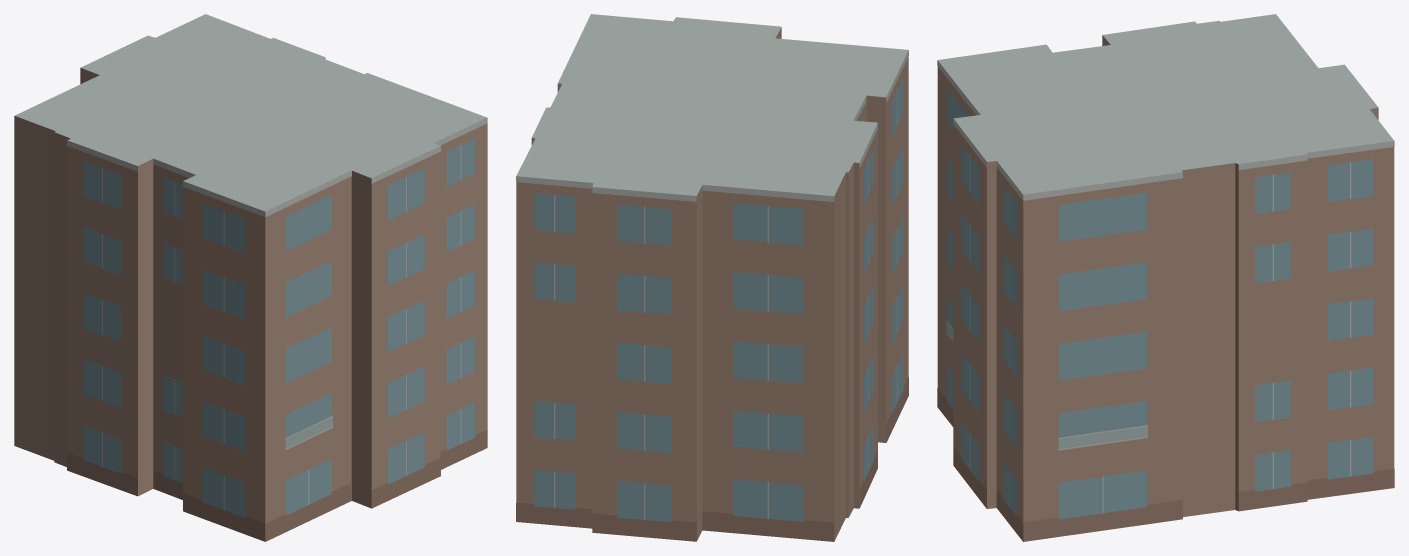
Rendered from survey-upis-32802325.glb.
3 views of the same model, side by side, from view 1: azimuth 30°, elevation 25°; view 2: azimuth 150°, elevation 25°; view 3: azimuth 270°, elevation 25° (orthographic). The views are drawn at different scales.
Visible parts, largest first — view 1: survey-upis-32802325.tmp; view 2: survey-upis-32802325.tmp; view 3: survey-upis-32802325.tmp.
Part boxes in pixels (left/top/right/bottom): survey-upis-32802325.tmp: left=14, top=14, right=487, bottom=541; survey-upis-32802325.tmp: left=516, top=14, right=908, bottom=541; survey-upis-32802325.tmp: left=937, top=14, right=1394, bottom=541.
Size of the model in its own units: 15.99 by 14.3 by 17.08.
